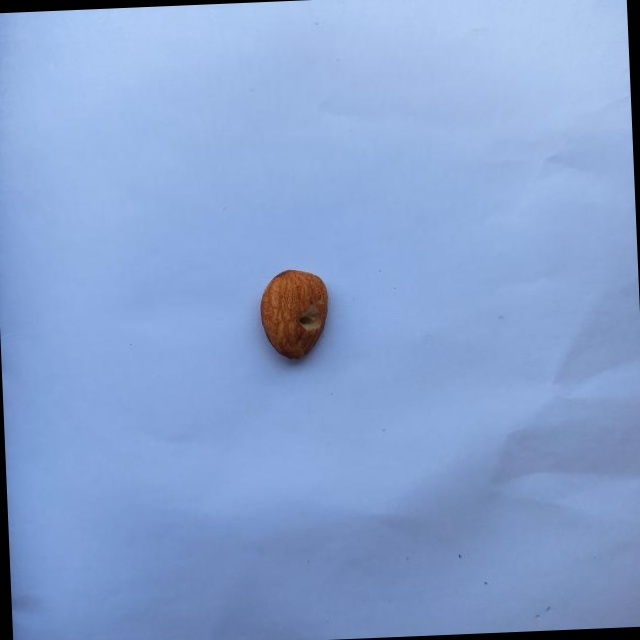grade3: (257, 264, 336, 366)
